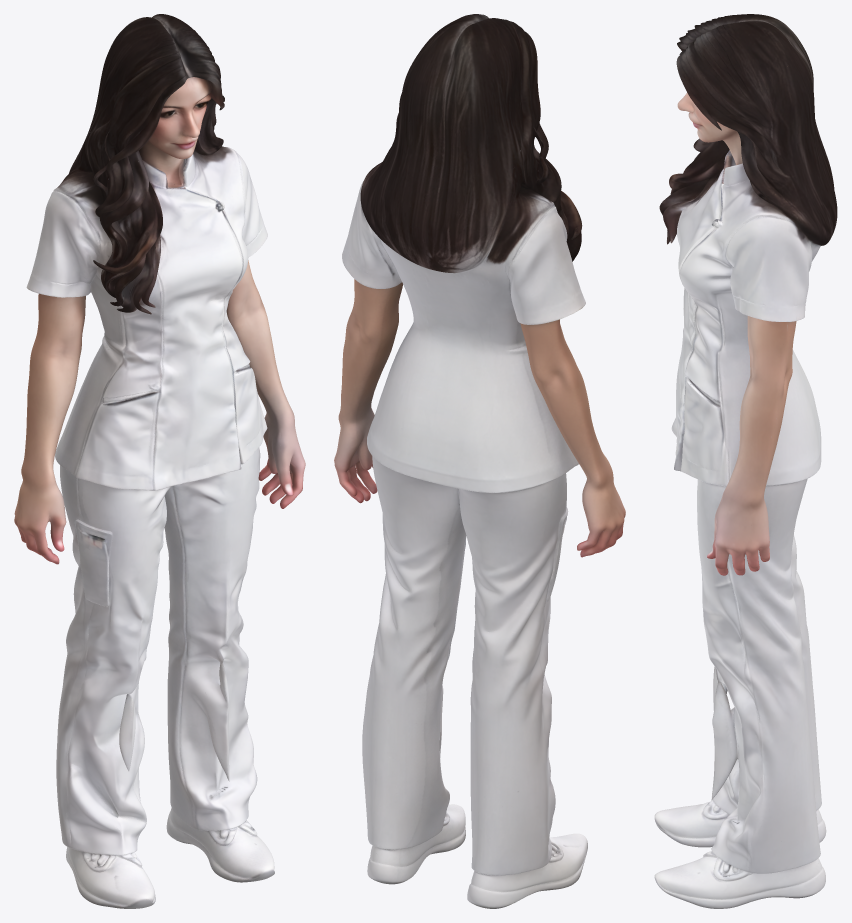
Rendered from base_basic_shaded.glb.
3 views of the same model, side by side, from view 1: azimuth 30°, elevation 25°; view 2: azimuth 150°, elevation 25°; view 3: azimuth 270°, elevation 25° (orthographic).
Parts seen in each view (by area): view 1: model; view 2: model; view 3: model.
Part boxes in pixels (<box>): model: <box>14,14,305,908</box>; model: <box>334,14,625,908</box>; model: <box>654,14,837,908</box>.
Size of the model in its own units: 0.6602 by 1.9 by 0.3703.
Materials: 1 (1 with a texture image).
